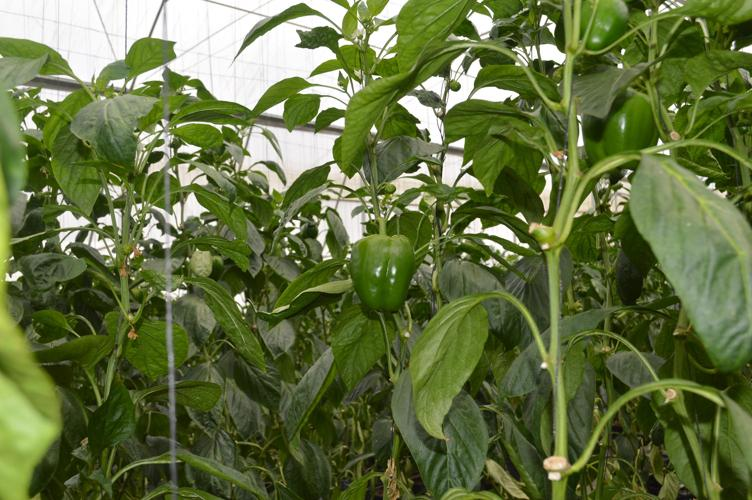BellPepper: (342, 226, 429, 321), (568, 85, 653, 167), (572, 1, 633, 74)
